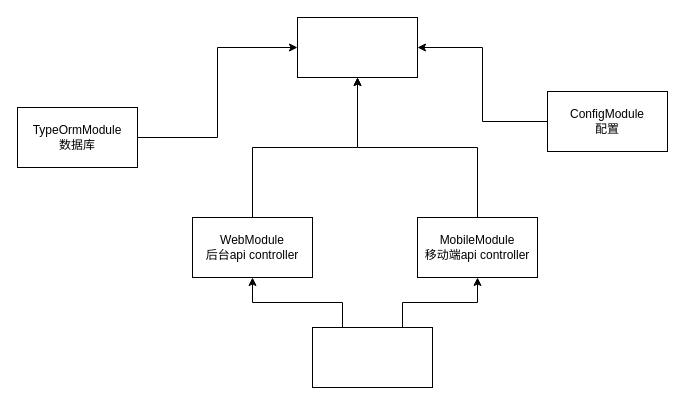
The diagram is 685 pixels wide and 405 high, and some of its shapes have lost their labels. Each missing label, with the centre of its shape:
"AppModule 根" belongs at (x=357, y=47).
"ServiceModule service层" belongs at (x=372, y=357).
